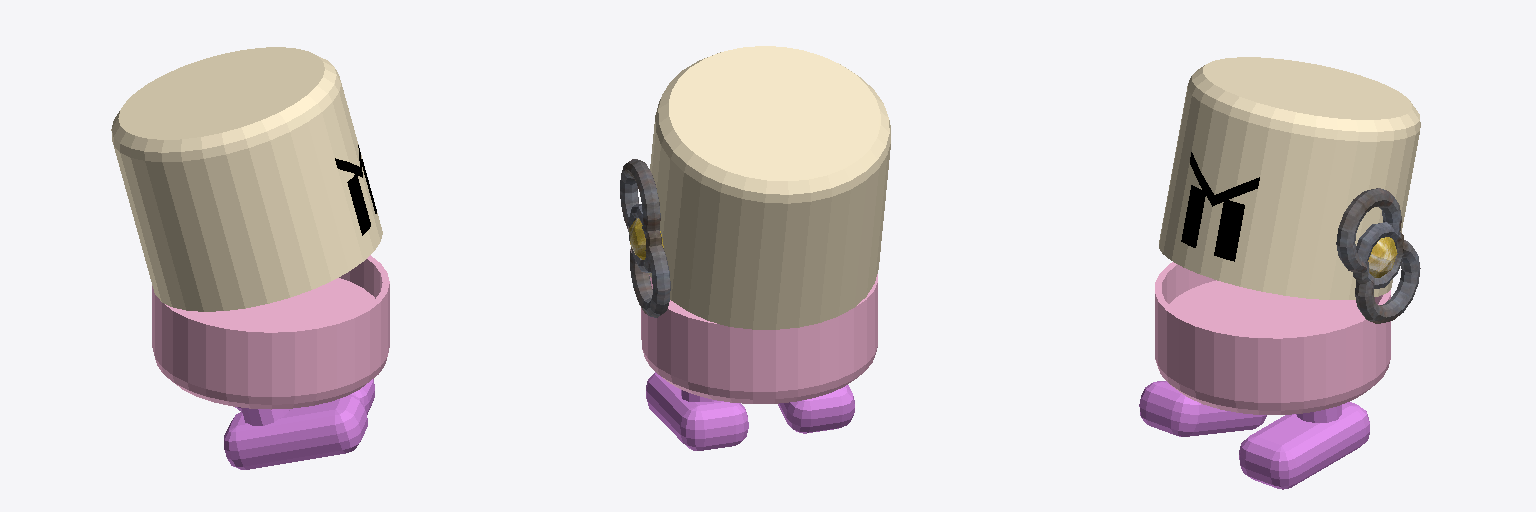
3 renders of one model, left to right at view 1: azimuth 30°, elevation 25°; view 2: azimuth 150°, elevation 25°; view 3: azimuth 270°, elevation 25°, orthographic.
Visible parts, largest first — view 1: Head, Jaw, RightLeg; view 2: Head, Jaw, WindupKey, LeftLeg, RightLeg; view 3: Head, Jaw, LeftLeg, WindupKey, RightLeg.
Boxes of the visible parts, box(x1,y1,x2,y2) form: Head: box(111, 47, 382, 311); Jaw: box(152, 255, 389, 409); RightLeg: box(224, 394, 367, 469); Head: box(648, 46, 890, 329); Jaw: box(641, 274, 877, 403); WindupKey: box(620, 159, 670, 317); LeftLeg: box(646, 372, 748, 450); RightLeg: box(778, 385, 854, 433); Head: box(1159, 57, 1420, 299); Jaw: box(1155, 262, 1390, 414); LeftLeg: box(1239, 402, 1369, 489); WindupKey: box(1336, 188, 1420, 323); RightLeg: box(1139, 381, 1266, 436).
Size of the model in its own units: 115 by 169 by 118.
6 materials, 2 textured.